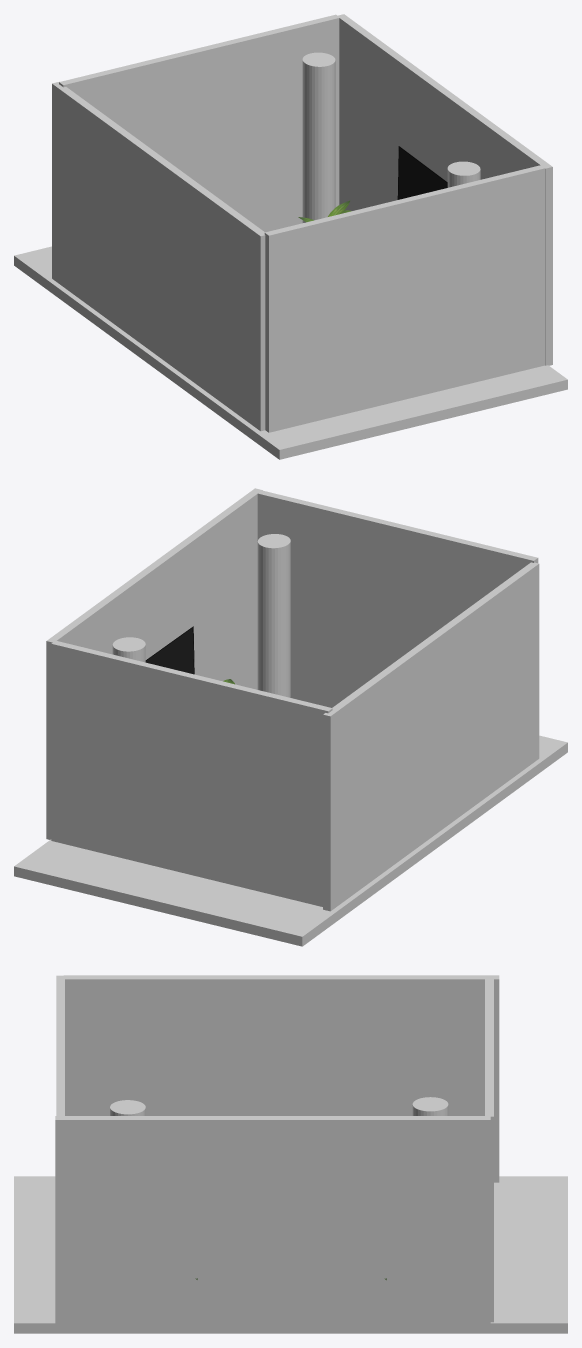
Rendered from meeting room .fbx.
3 renders of one model, top to bottom at view 1: azimuth 30°, elevation 25°; view 2: azimuth 150°, elevation 25°; view 3: azimuth 270°, elevation 25°, orthographic. The views are drawn at different scales.
Visible parts, largest first — view 1: Cube.002, Cube.005, Cube, Cube.004, Cube.003, Cylinder, Box002, Cylinder.001; view 2: Cube, Cube.005, Cube.002, Cube.004, Cube.003, Cylinder.001, Box002, Cylinder; view 3: Cube.004, Cube.005, Cube.003, Cube, Cube.002, Cylinder, Cylinder.001.
Boxes of the visible parts, x1=… form: Cube.002: x1=264, y1=165, x2=545, y2=432; Cube.005: x1=52, y1=81, x2=265, y2=431; Cube: x1=59, y1=14, x2=339, y2=232; Cube.004: x1=338, y1=14, x2=552, y2=365; Cube.003: x1=14, y1=246, x2=567, y2=459; Cylinder: x1=302, y1=52, x2=335, y2=222; Box002: x1=397, y1=146, x2=447, y2=199; Cylinder.001: x1=447, y1=161, x2=480, y2=187; Cube: x1=51, y1=640, x2=332, y2=906; Cube.005: x1=323, y1=562, x2=539, y2=911; Cube.002: x1=257, y1=490, x2=538, y2=707; Cube.004: x1=46, y1=488, x2=262, y2=839; Cube.003: x1=14, y1=735, x2=567, y2=946; Cylinder.001: x1=257, y1=534, x2=290, y2=697; Box002: x1=145, y1=626, x2=194, y2=674; Cylinder: x1=112, y1=637, x2=145, y2=662; Cube.004: x1=55, y1=1116, x2=490, y2=1326; Cube.005: x1=64, y1=975, x2=499, y2=1182; Cube.003: x1=14, y1=1176, x2=567, y2=1333; Cube: x1=485, y1=975, x2=493, y2=1322; Cube.002: x1=56, y1=975, x2=64, y2=1116; Cylinder: x1=412, y1=1097, x2=448, y2=1115; Cylinder.001: x1=110, y1=1100, x2=145, y2=1115.
Size of what is drawn, in the model's own units: 1897 by 1315 by 2929.
